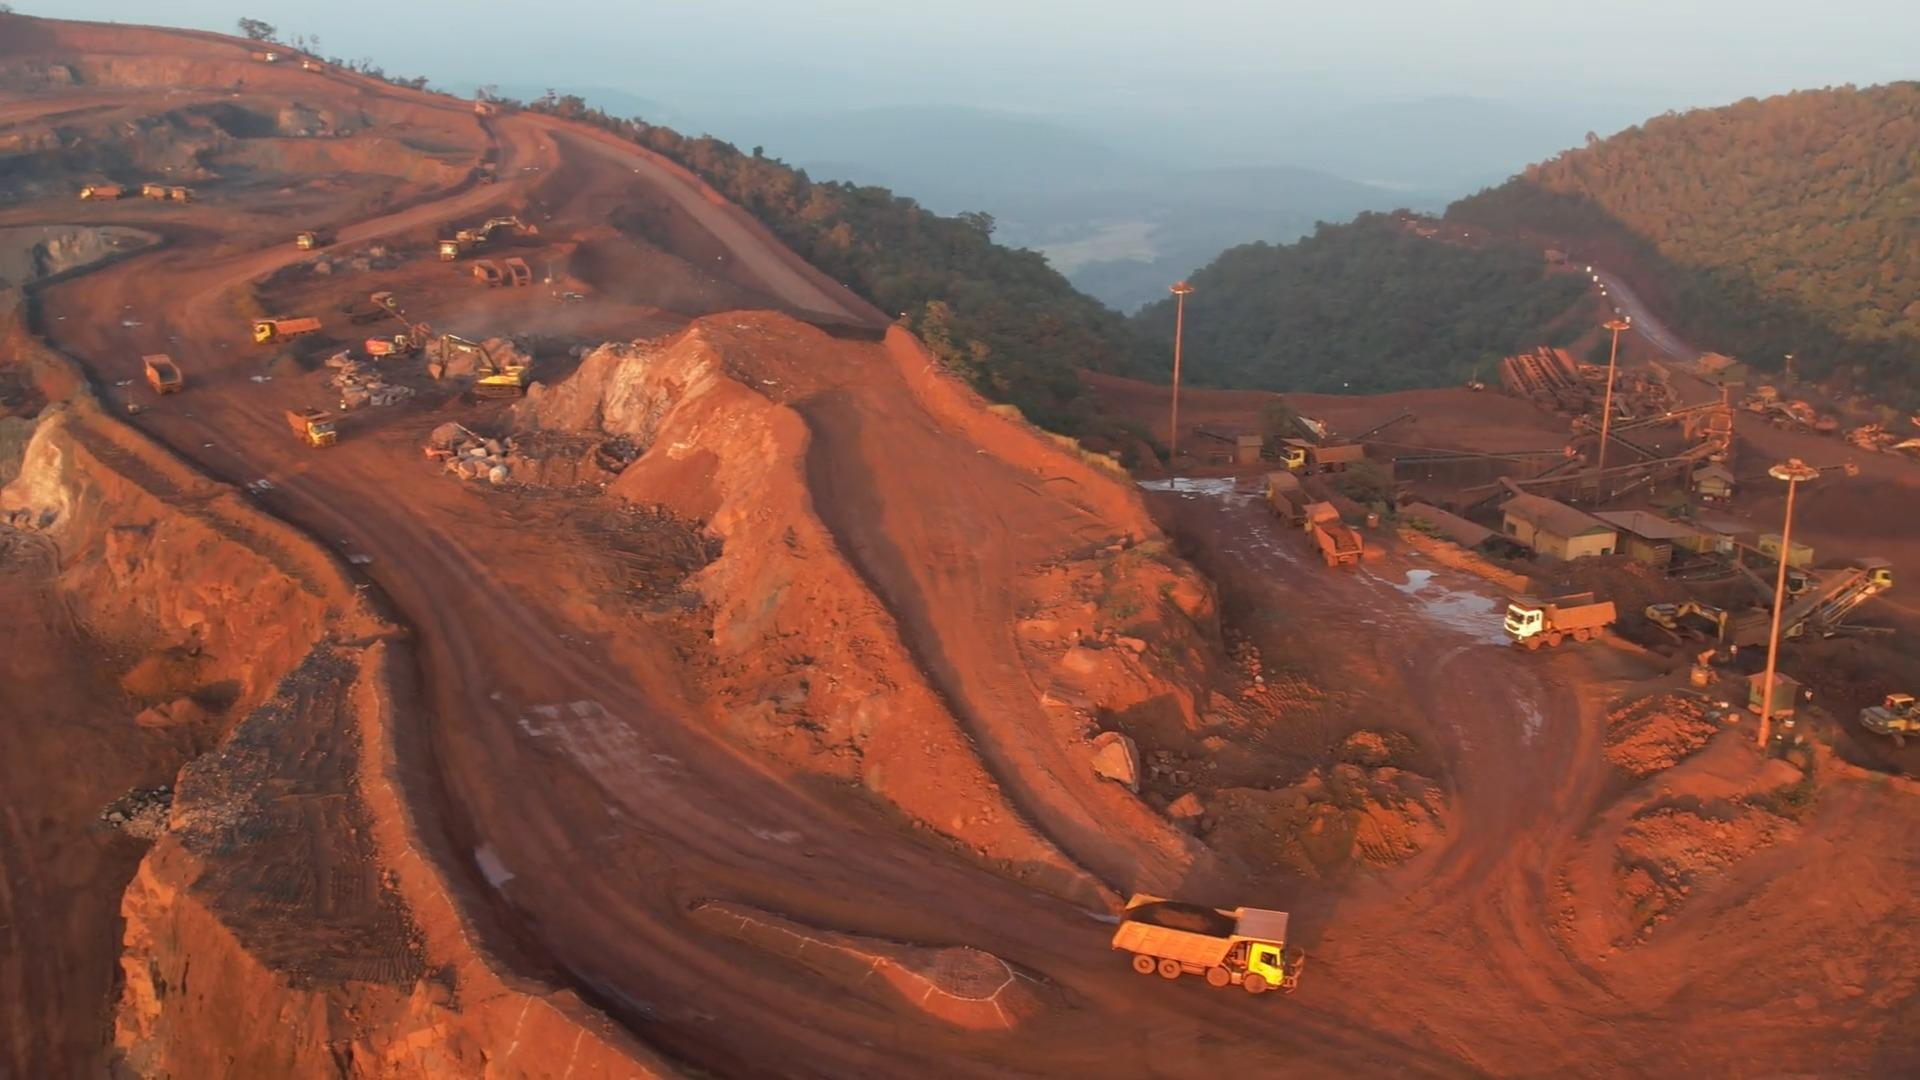excavator: (429, 335, 527, 400), (1643, 597, 1729, 647), (1861, 691, 1920, 749)
